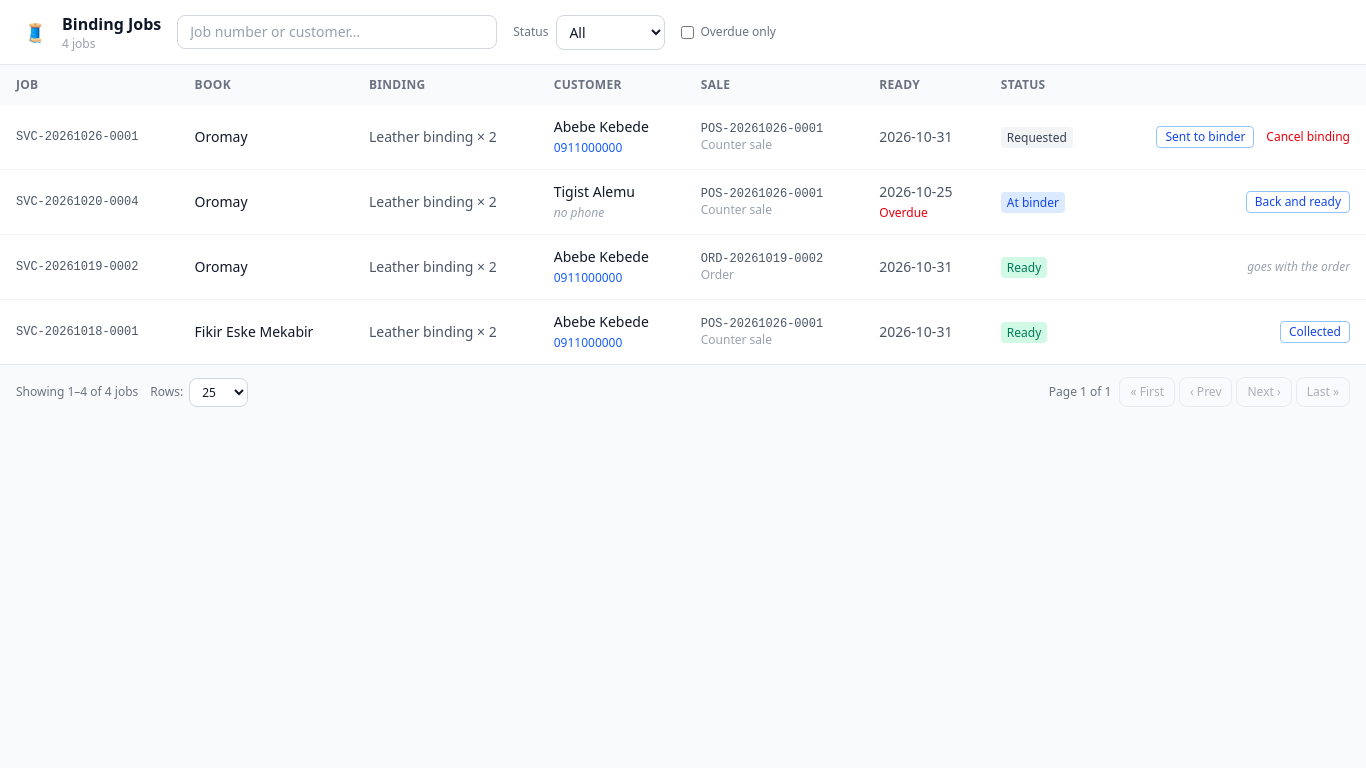
Test: cancelling a binding (3a) › is for a Manager or Admin, on a job still Requested, with a reason
Click the button "Cancel binding" at x=1308, y=137, box [1266, 129, 1350, 145]
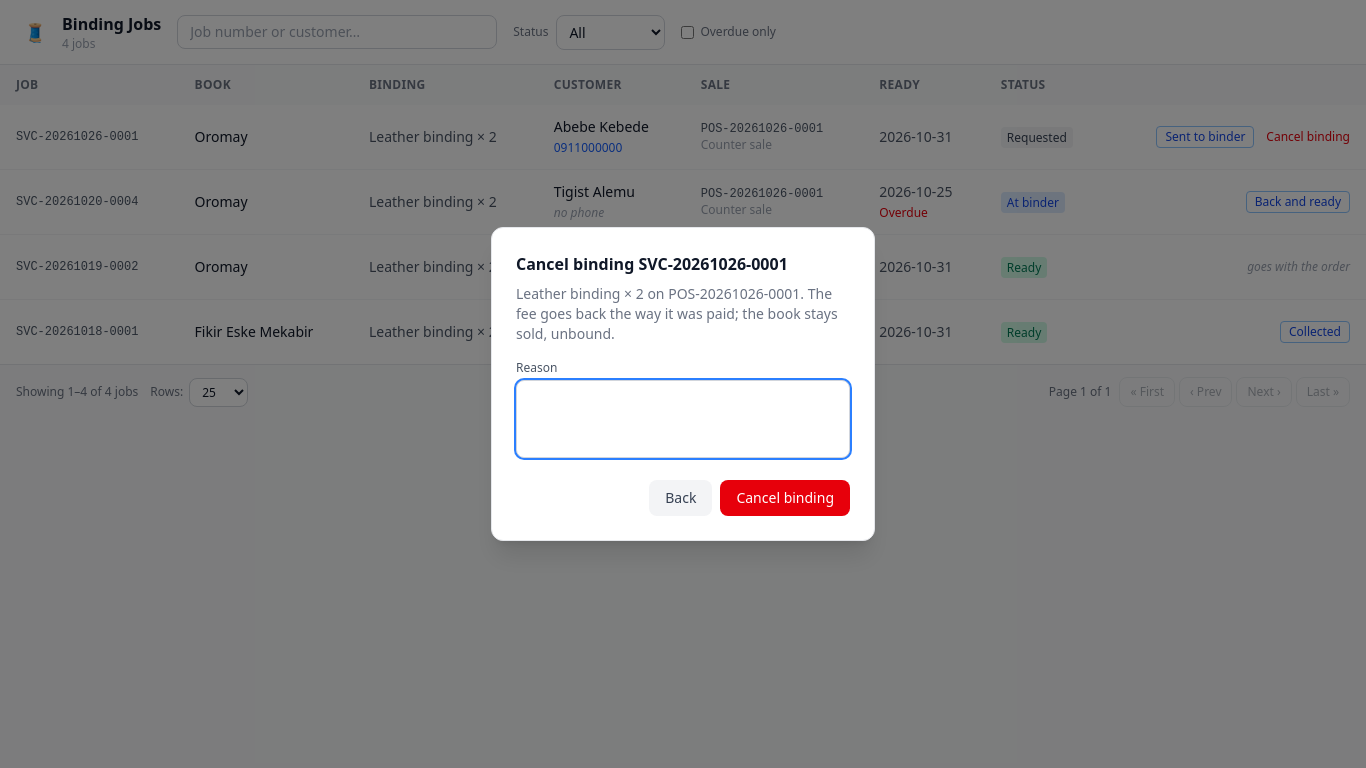
Expected: the dialog "Cancel binding SVC-20261026-0001" shows "fee goes back the way it was paid", [516, 284, 838, 343]
Click the button "Cancel binding" at x=785, y=498, box [720, 480, 850, 516]
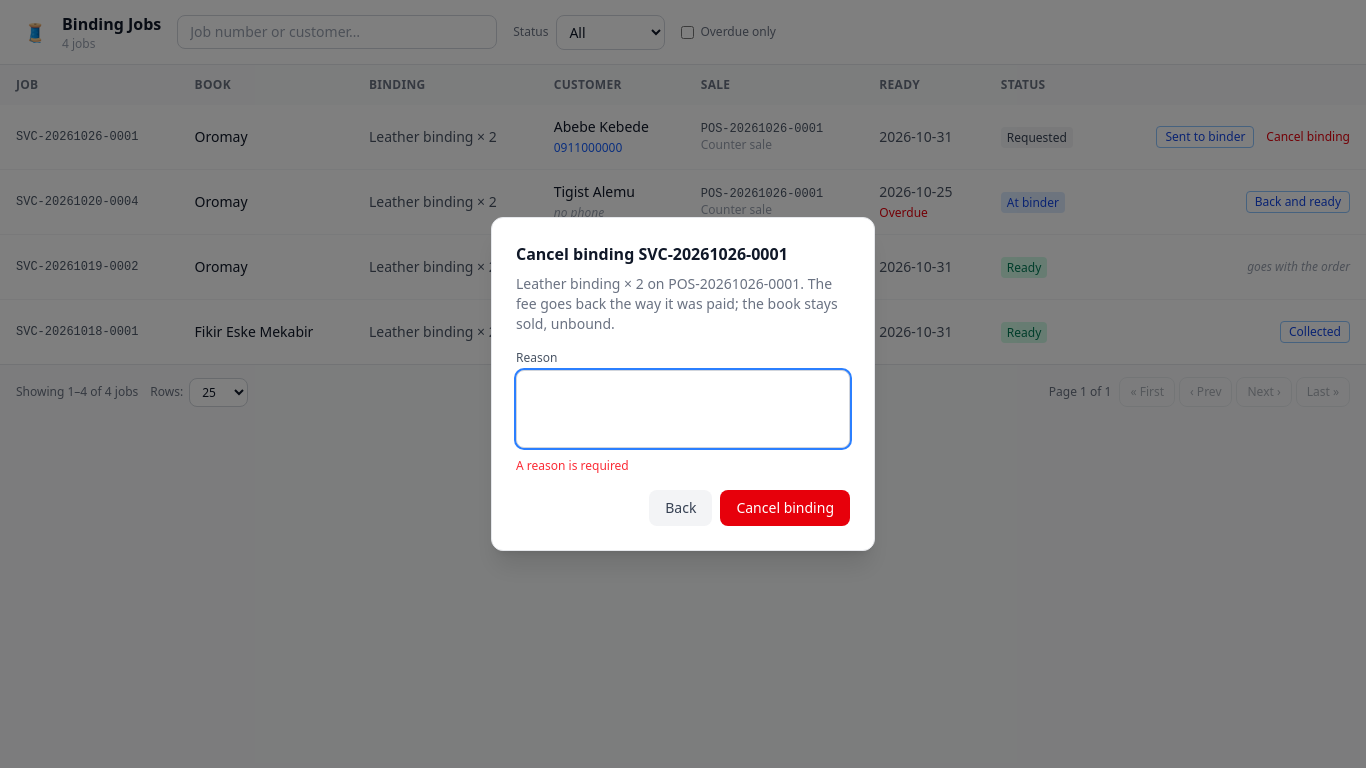
Expected: the message reads "A reason is required", [516, 457, 629, 474]
Type "Customer changed their mind" into the text box labelled "Reason" at x=683, y=409, box [516, 370, 850, 448]
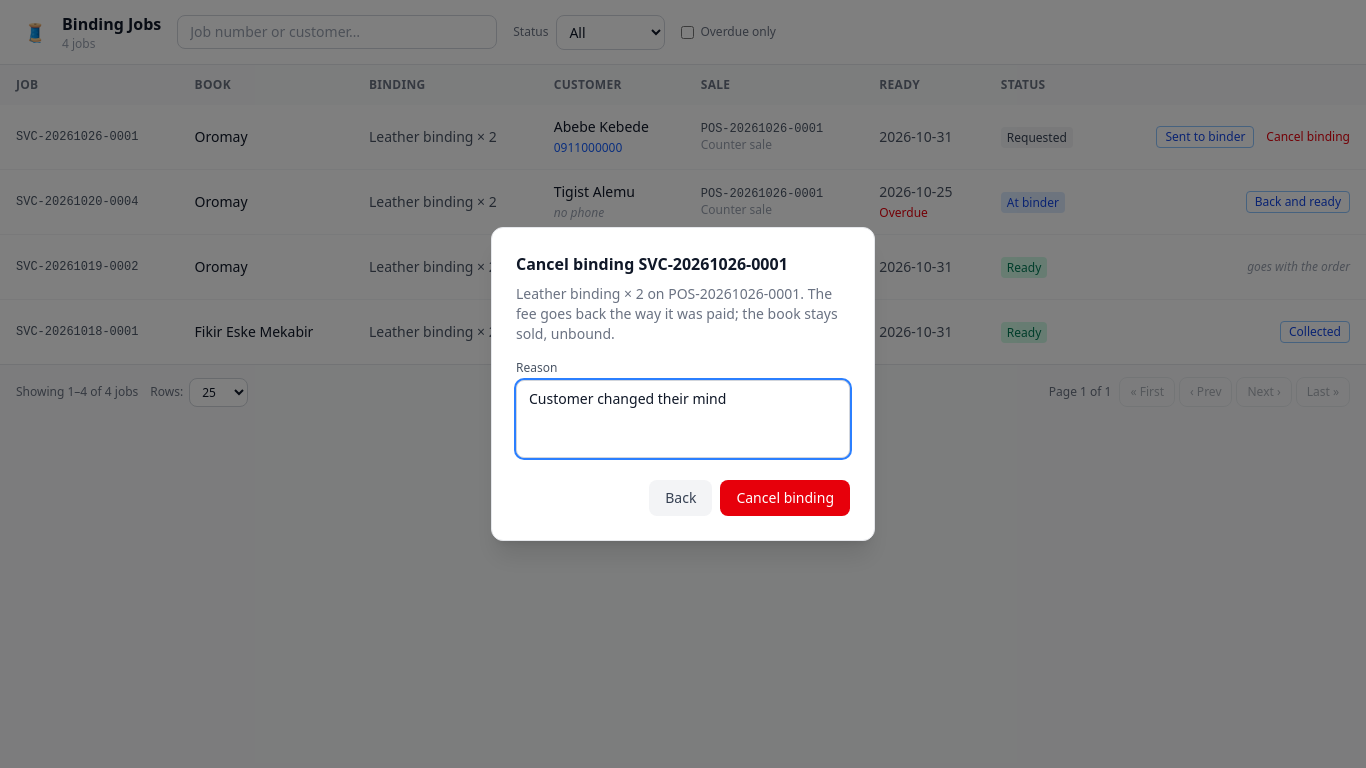
Click the button "Cancel binding" at x=785, y=498, box [720, 480, 850, 516]
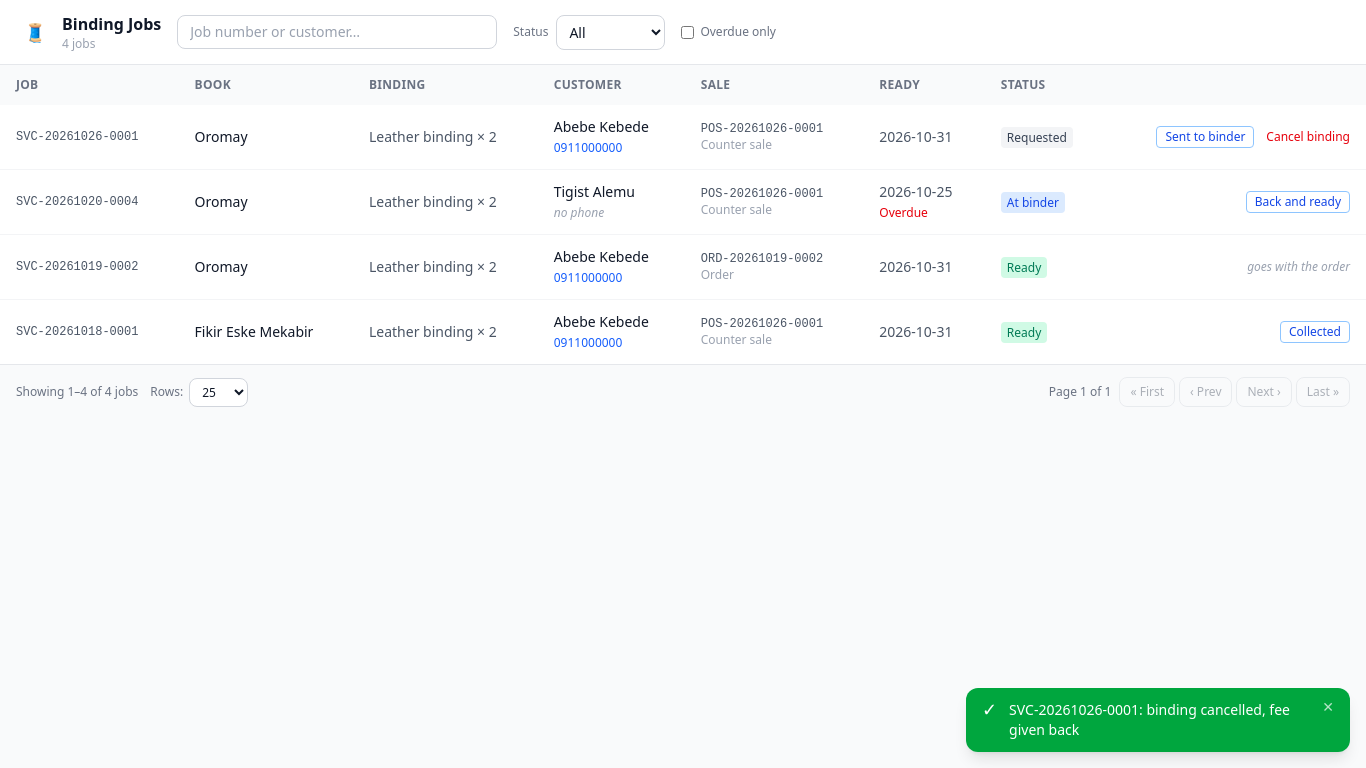
Expected: the dialog is gone
